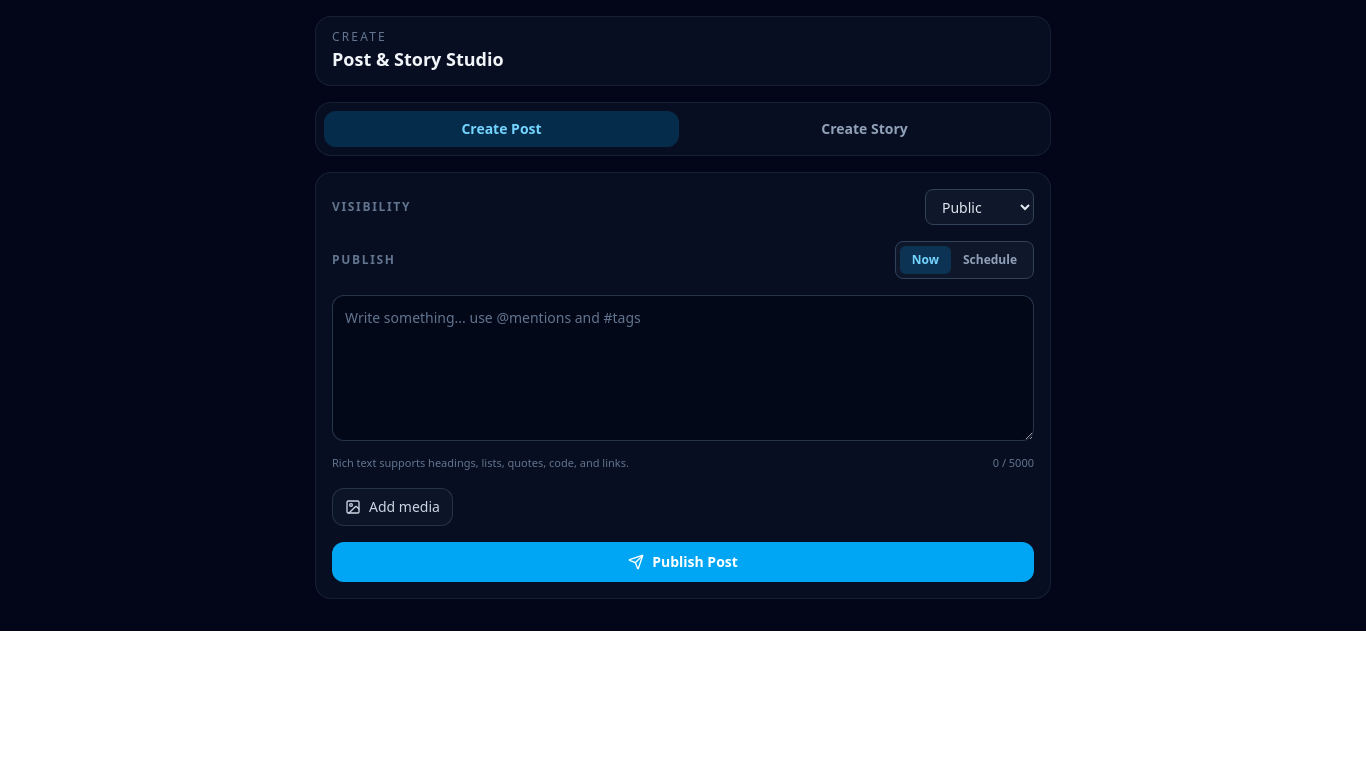
Scenario: CreatePostPage › validates empty post submissions
The width and height of the screenshot is (1366, 768).
Click the button "Publish Post" at x=683, y=562, box [332,542,1034,582]
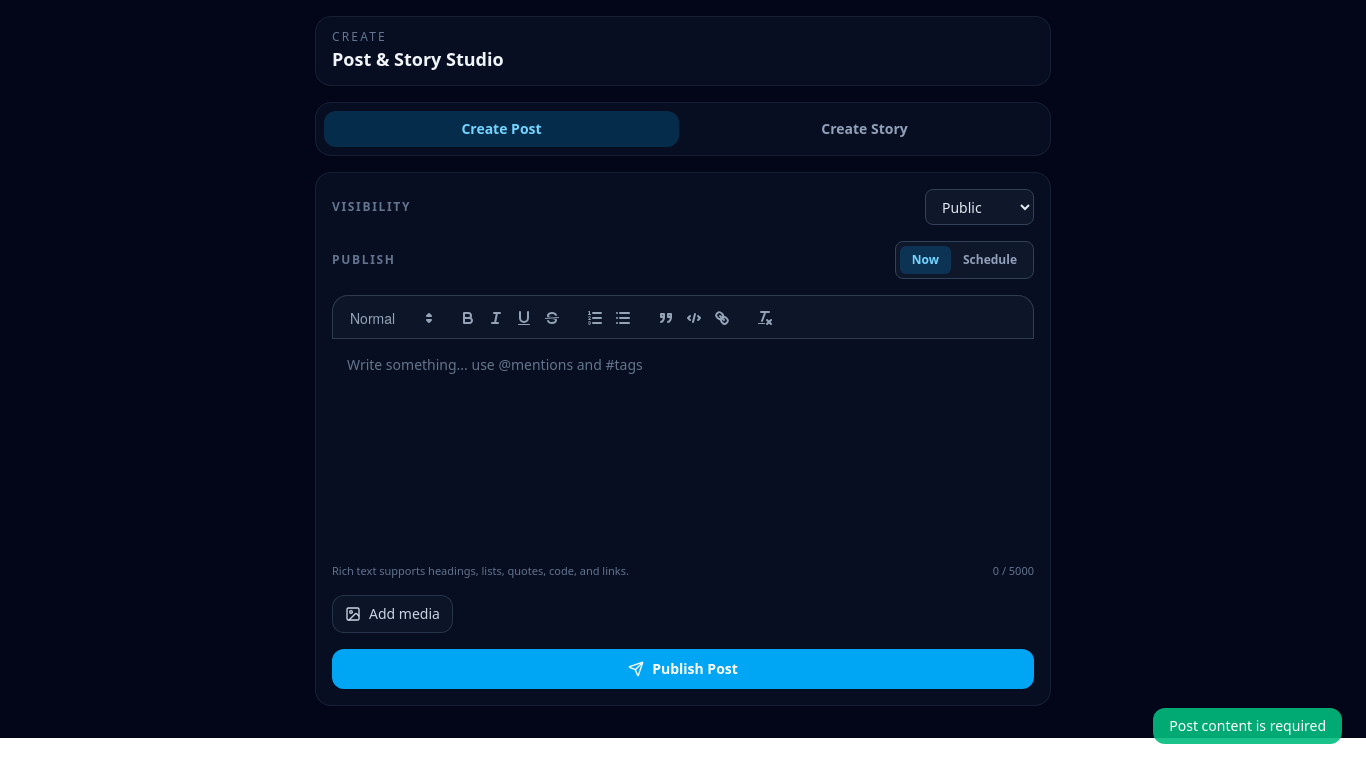
Check: the text "Post content is required" is shown, box [1153,708,1342,744]
